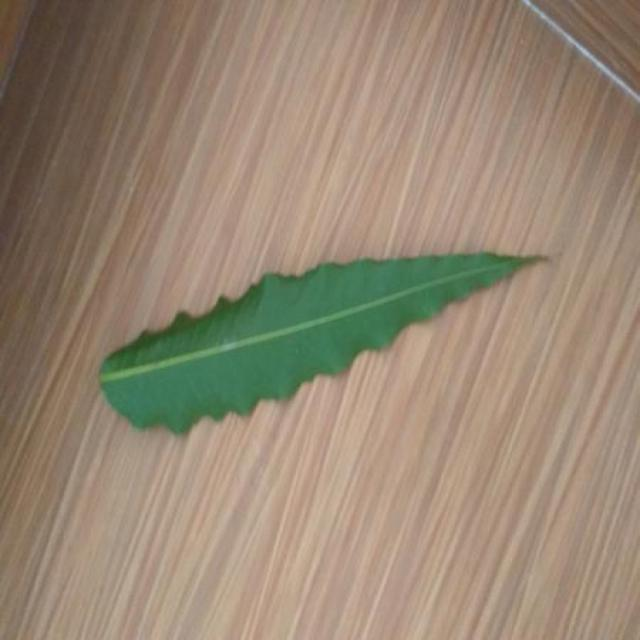ashoka: (100, 252, 540, 432)
